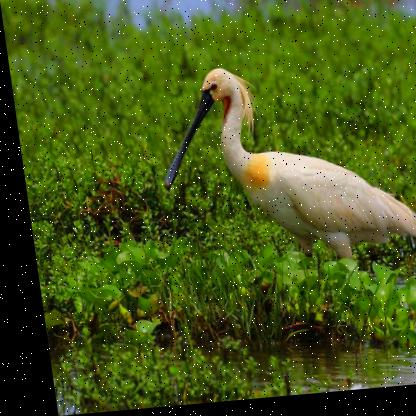Burung: (144, 60, 415, 313)
